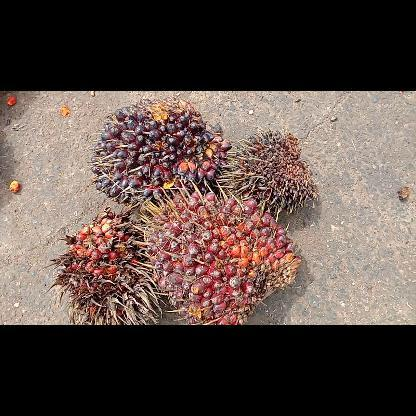Kurang masak: (87, 98, 233, 204)
TBS abnormal: (223, 126, 320, 214)
TBS masak: (136, 188, 304, 324)
Terlalu masak: (36, 204, 166, 324)
